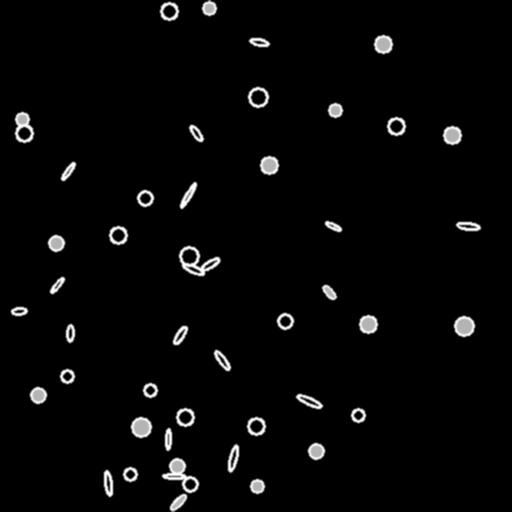pseudomonas: (178, 181, 198, 209), (296, 393, 322, 409), (213, 349, 231, 371), (171, 324, 189, 346), (226, 445, 240, 471), (169, 493, 187, 511), (200, 256, 220, 272), (60, 161, 76, 181), (182, 262, 204, 276), (188, 124, 204, 142), (49, 276, 65, 294), (103, 470, 113, 496), (321, 284, 337, 300), (324, 220, 342, 232), (250, 37, 268, 47), (457, 222, 479, 230), (66, 324, 74, 342), (163, 473, 185, 479), (11, 307, 27, 315), (165, 429, 171, 449)
synechocystis: (455, 317, 473, 335), (249, 88, 267, 106), (180, 247, 198, 265), (132, 418, 150, 436), (375, 36, 391, 52), (110, 227, 126, 243), (444, 127, 460, 143), (177, 409, 193, 425), (161, 3, 177, 19), (360, 316, 376, 332), (388, 118, 404, 134), (16, 125, 32, 141), (261, 157, 277, 173), (248, 418, 264, 434), (138, 191, 152, 205), (183, 477, 197, 491), (278, 314, 292, 328), (309, 444, 323, 458), (170, 459, 184, 473), (31, 388, 45, 402), (49, 236, 63, 250), (16, 113, 28, 125), (251, 480, 263, 492), (460, 322, 472, 334), (124, 468, 136, 480), (352, 409, 364, 421), (329, 104, 341, 116), (203, 2, 215, 14), (61, 370, 73, 382), (144, 384, 156, 396)
